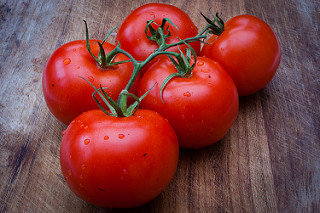tomato: (54, 106, 178, 206), (135, 56, 236, 144), (41, 35, 128, 115), (204, 7, 278, 89), (116, 2, 195, 63)
